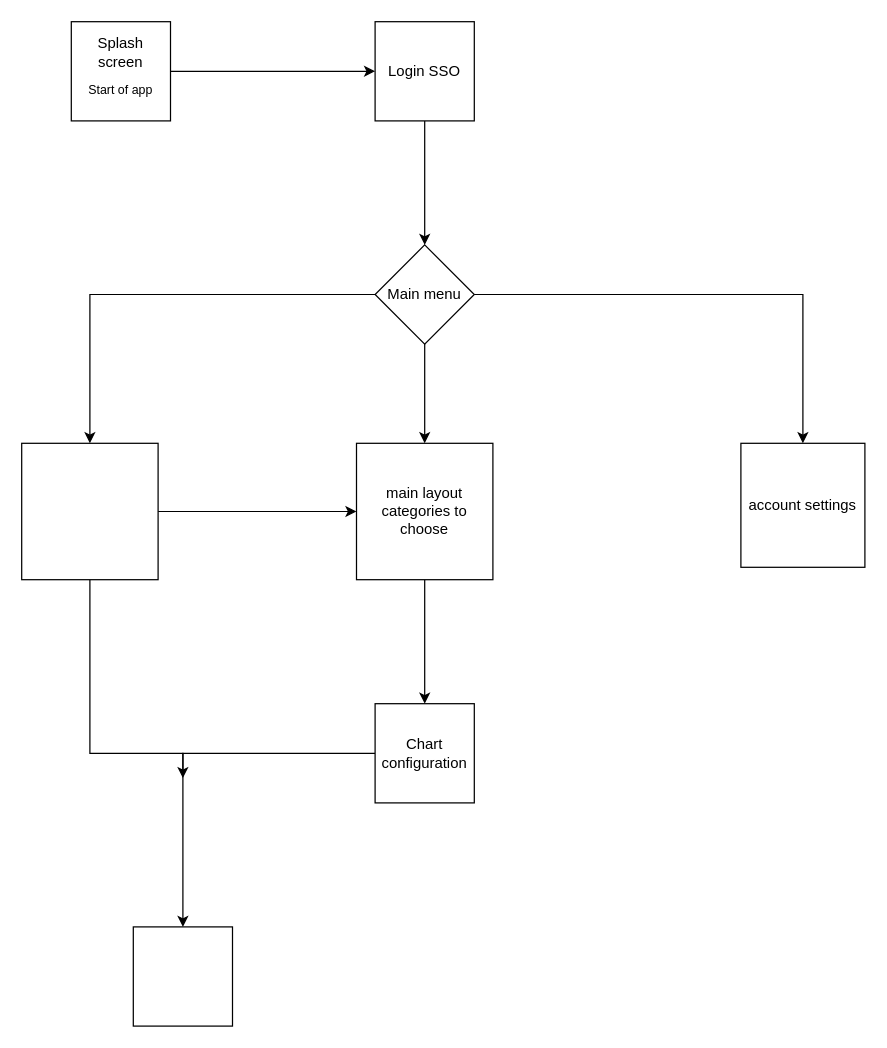
This 887x1048 diagram has some shape labels left out. Each missing label, with the centre of its shape:
"Charts - last used charts, if empty then move to the categories" belongs at [89,511].
"charts details" belongs at [182,976].
